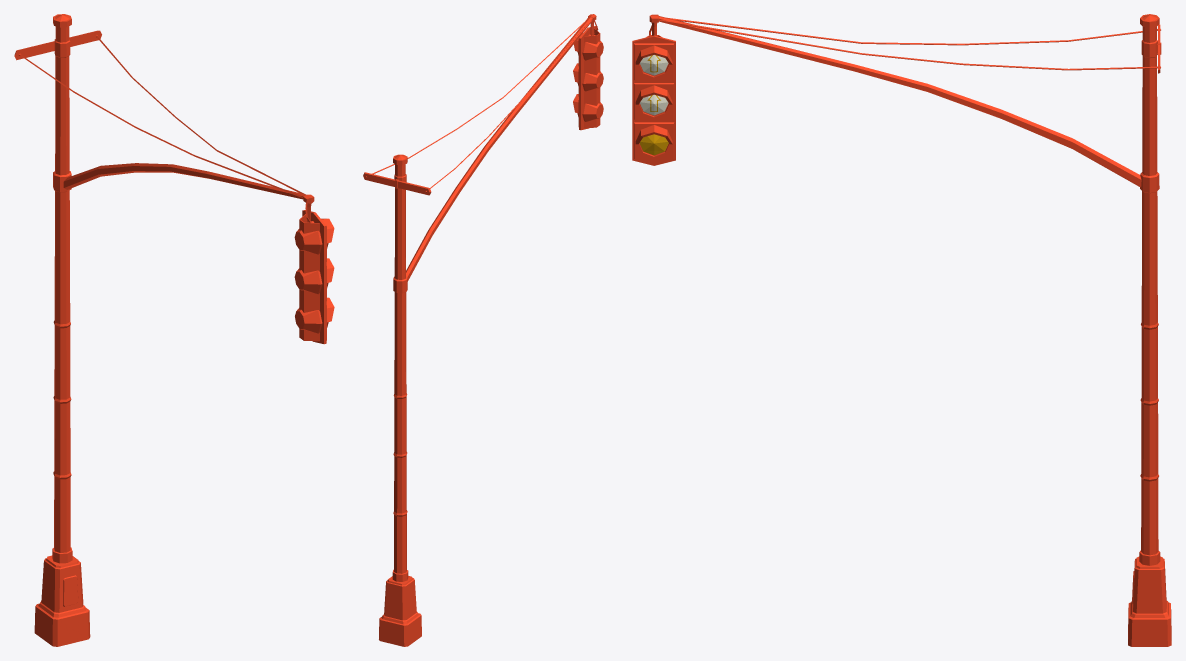
Rendered from SM_Light_C_City.fbx.
3 renders of one model, left to right at view 1: azimuth 30°, elevation 25°; view 2: azimuth 150°, elevation 25°; view 3: azimuth 270°, elevation 25°, orthographic. The views are drawn at different scales.
Parts seen in each view (by area): view 1: SM_Light_C_City; view 2: SM_Light_C_City; view 3: SM_Light_C_City.
Part boxes in pixels (x1,y1,x2,y2): SM_Light_C_City: [14, 14, 334, 646]; SM_Light_C_City: [363, 14, 603, 646]; SM_Light_C_City: [632, 14, 1171, 646].
Size of the model in its own units: 0.8104 by 5.47 by 4.29.
